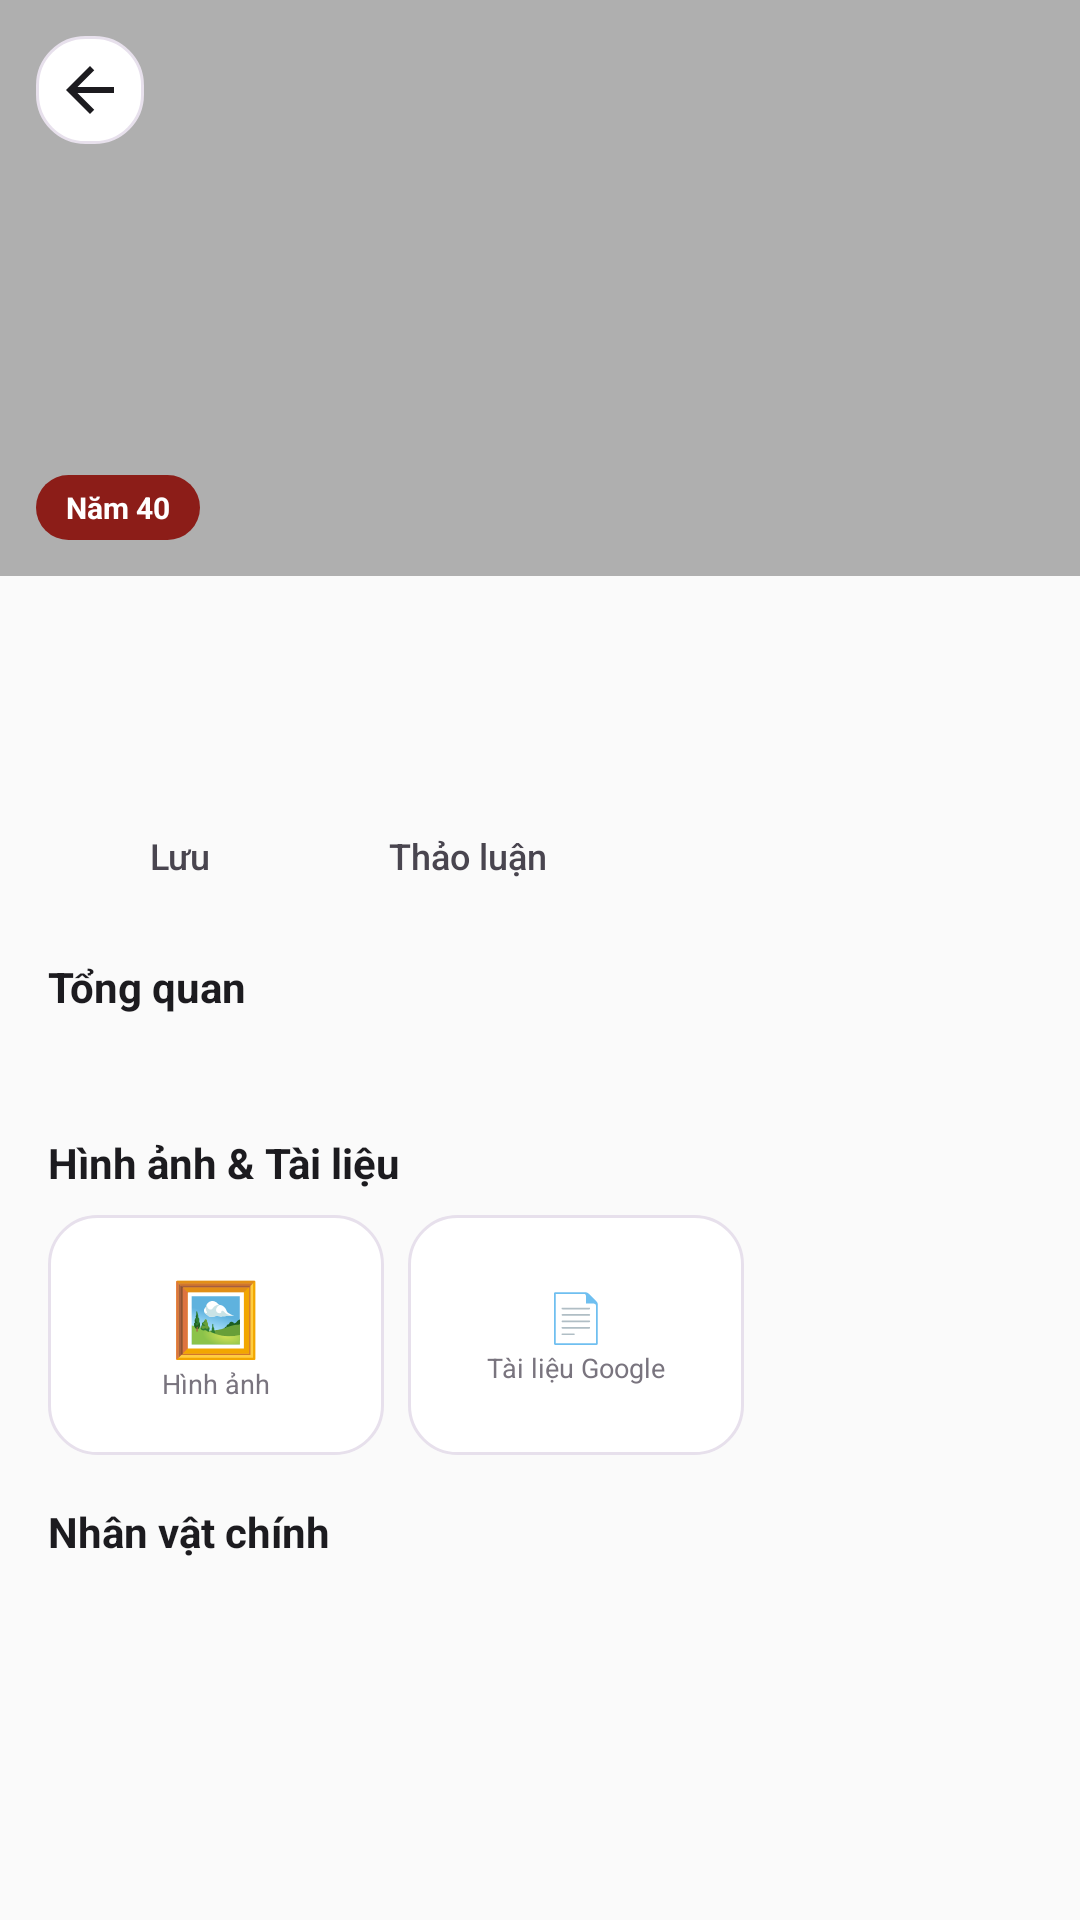

Icons on this 1080x1920 Android screen, each with its box as (x1, y1, x2, y2):
Back: (36, 36, 144, 144)
